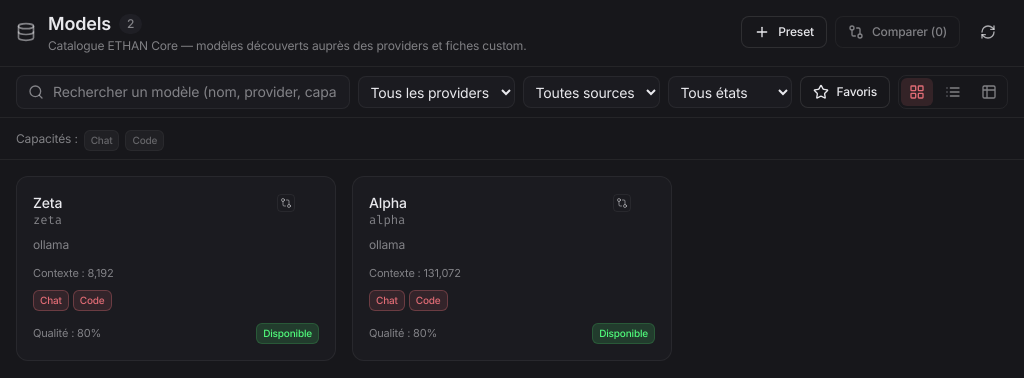
Test: ModelsWorkspace — vues et tri › bascule Cartes → Liste → Table
This screenshot has width=1024, height=378.
What coordinates should you click on to do the following:
click the button named "Vue Liste"
I would click on:
 (953, 92)
Its box is [937, 78, 969, 106].
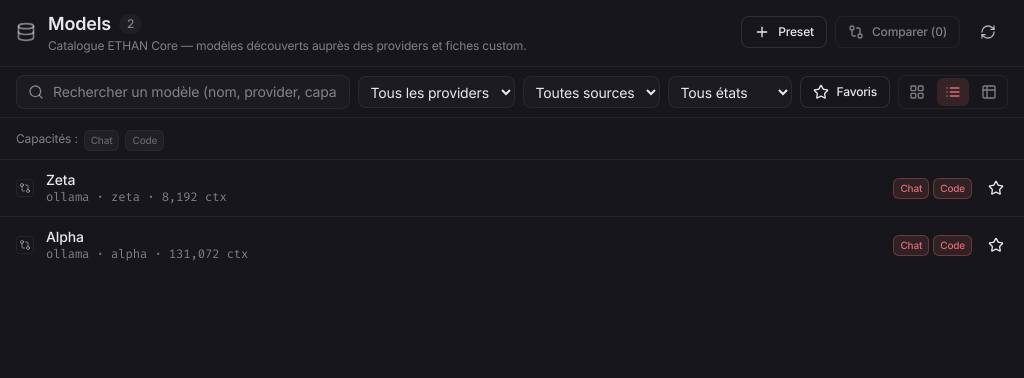
Now the text "Alpha" is shown, box [46, 227, 84, 247]
What coordinates should you click on to do the following:
click the button named "Vue Table"
I would click on:
 (989, 92)
Its box is [973, 78, 1005, 106].
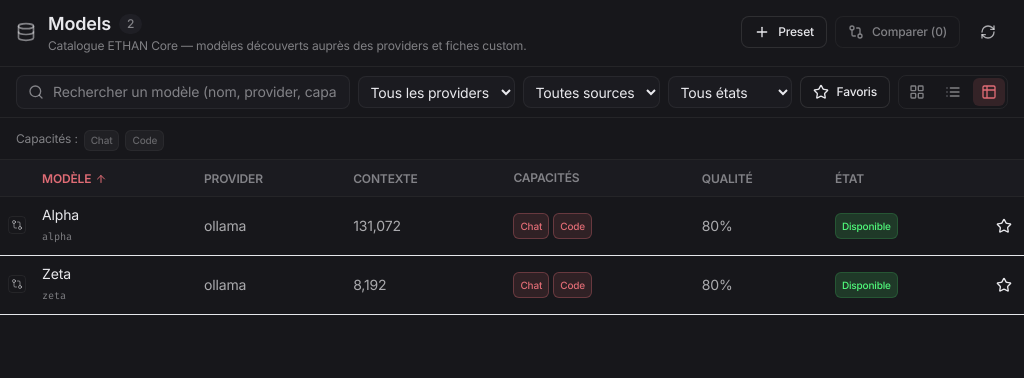
Now the button "Qualité" is shown, box [702, 171, 753, 187]
